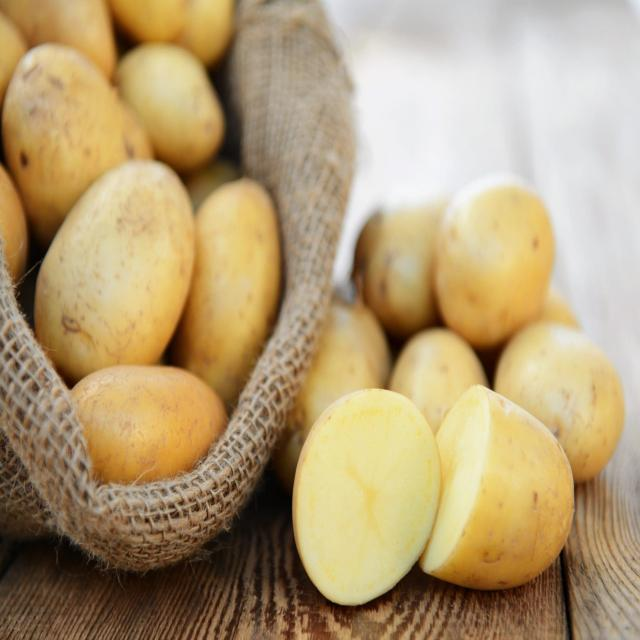Potato: (19, 95, 207, 401), (403, 334, 584, 620), (265, 347, 451, 602)
